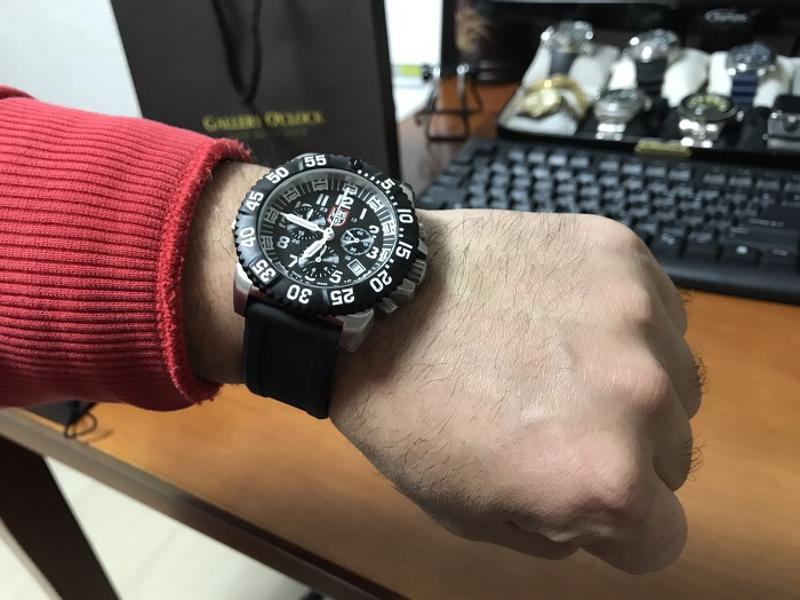watch: (231, 148, 429, 422)
